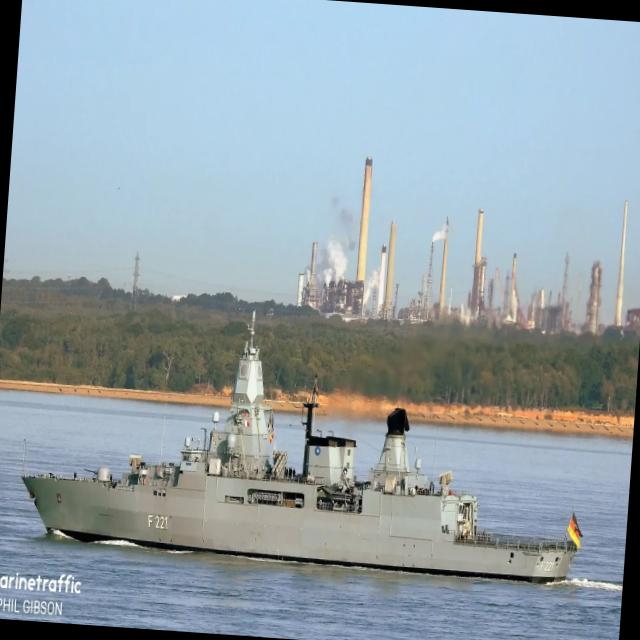Military: (21, 315, 581, 582)
